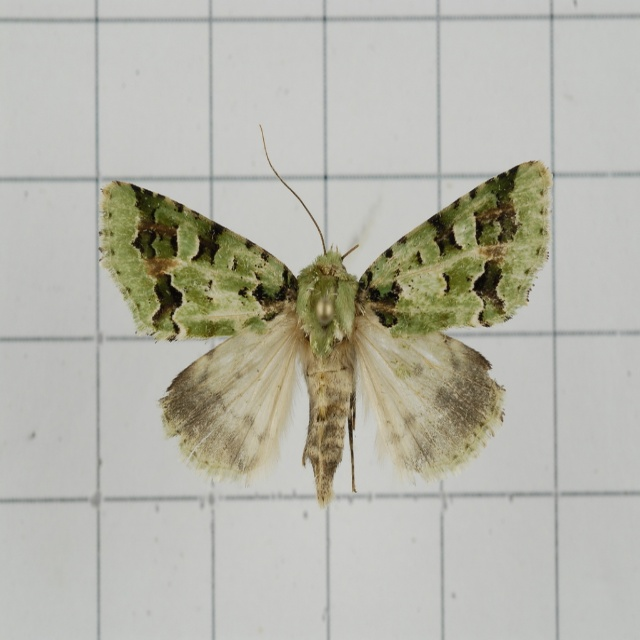Butterfly: (96, 123, 543, 511)
